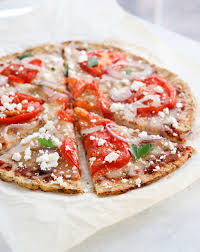pizza: (1, 43, 193, 187)
